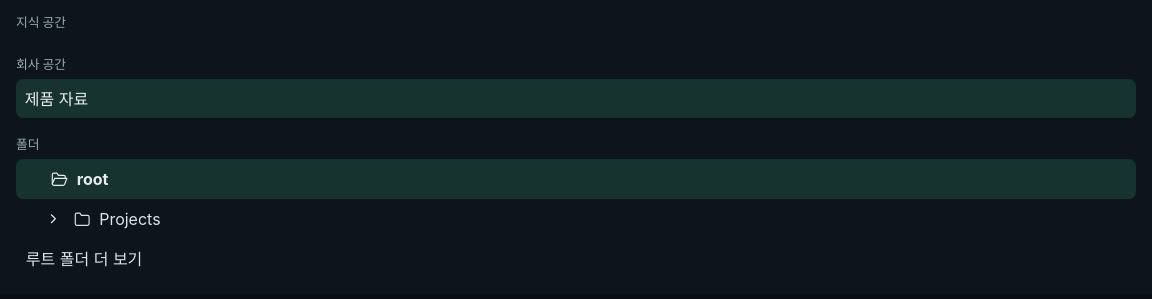
Test: loads the next bounded root folder page without replacing existing nodes
What coordinates should you click on to do the following:
click the button "루트 폴더 더 보기"
I would click on:
 (84, 258)
Its box is top-left (16, 239), bottom-right (152, 278).
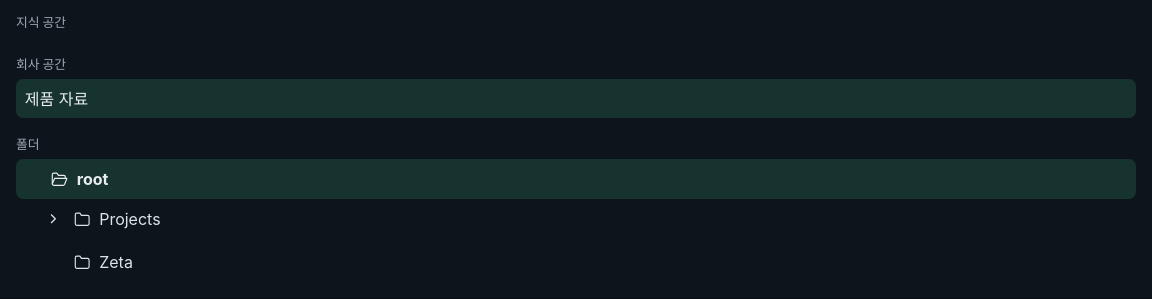
Expected: the button with aria-label "Projects 폴더 열기" is shown, top-left (66, 199), bottom-right (1136, 239)
Now the button with aria-label "Zeta 폴더 열기" is shown, box top-left (66, 242), bottom-right (1136, 282)
